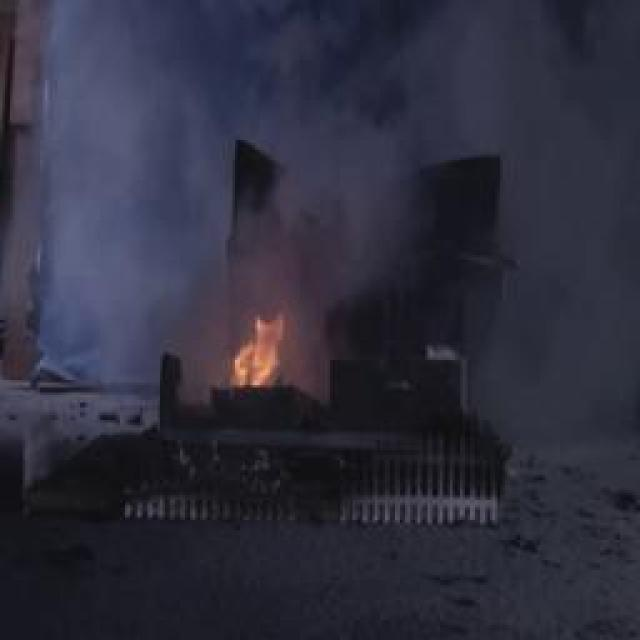Fire: (236, 304, 287, 364), (233, 338, 276, 388)
Smoke: (27, 0, 195, 410), (195, 7, 430, 263)
